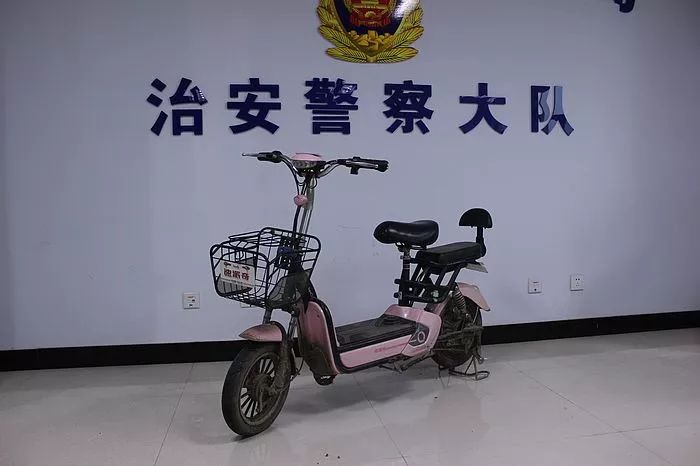电动车: (196, 130, 512, 436)
